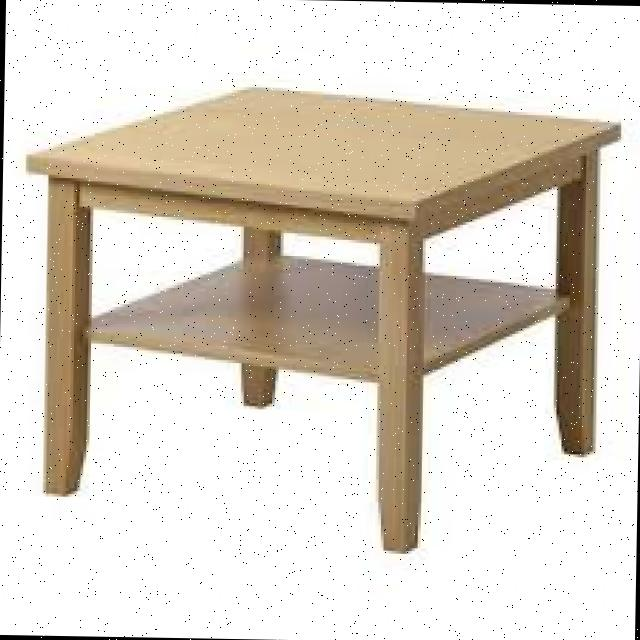Table: (0, 22, 631, 605)
